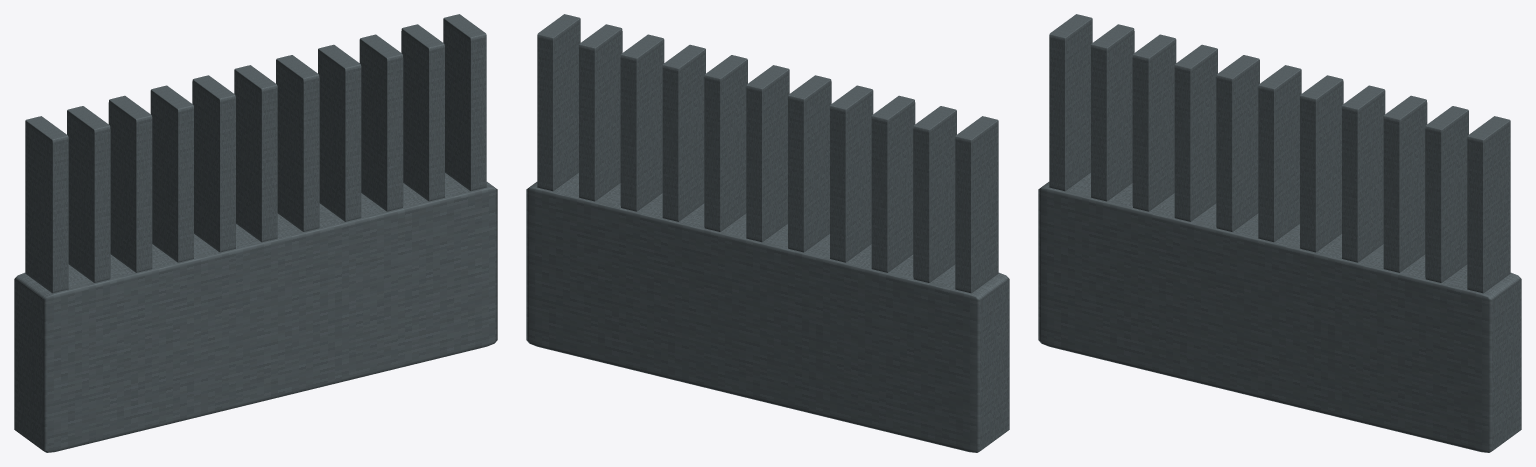
File: louver.glb
3 renders of one model, left to right at view 1: azimuth 30°, elevation 25°; view 2: azimuth 150°, elevation 25°; view 3: azimuth 330°, elevation 25°, orthographic.
Parts seen in each view (by area): view 1: rim, slat (×11); view 2: rim, slat (×11); view 3: rim, slat (×11).
Boxes of the visible parts, x1,y1,x2,y2 form: rim: (14, 173, 497, 452); slat (×11): (25, 14, 486, 293); rim: (526, 173, 1009, 452); slat (×11): (537, 14, 998, 293); rim: (1038, 173, 1521, 452); slat (×11): (1049, 14, 1510, 293).
Bounding box in the file's own units: 0.6 × 0.394 × 0.07.
Materials: 1 (1 with a texture image).
